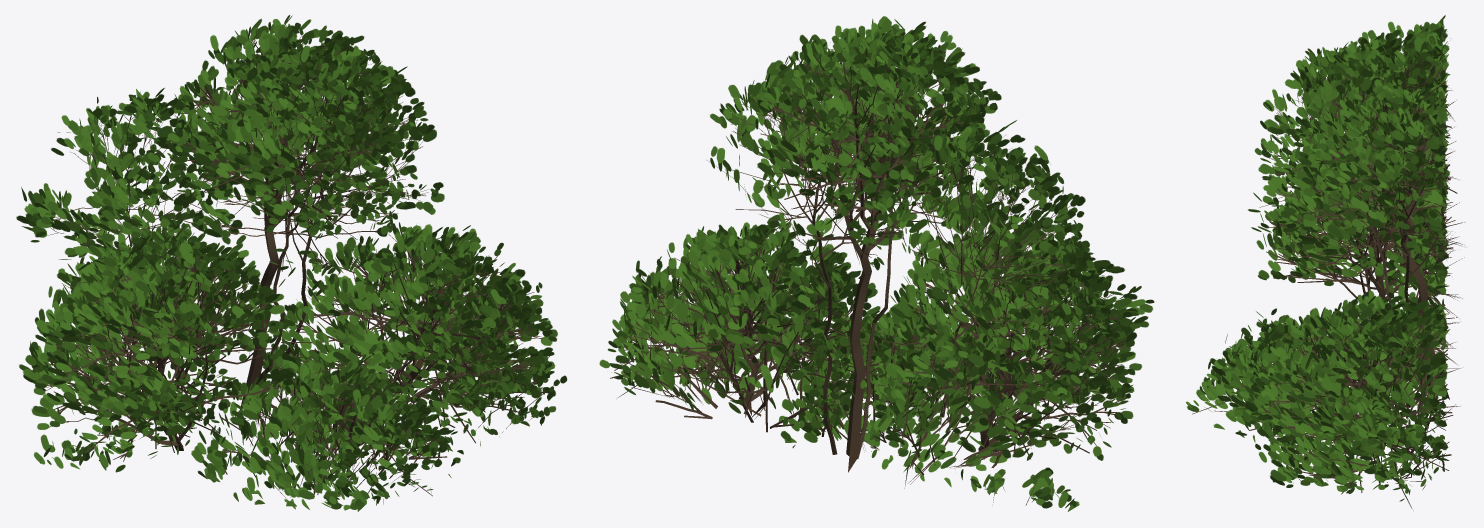
3 renders of one model, left to right at view 1: azimuth 30°, elevation 25°; view 2: azimuth 150°, elevation 25°; view 3: azimuth 270°, elevation 25°, orthographic. The views are drawn at different scales.
Visible parts, largest first — view 1: oak 01.001_trunk_Mat.001_0.443; view 2: oak 01.001_trunk_Mat.001_0.443; view 3: oak 01.001_trunk_Mat.001_0.443.
Boxes of the visible parts, x1,y1,x2,y2 form: oak 01.001_trunk_Mat.001_0.443: (16,15,567,511); oak 01.001_trunk_Mat.001_0.443: (599,16,1154,511); oak 01.001_trunk_Mat.001_0.443: (1186,15,1465,510).
Size of the model in its own units: 5.7 by 4.53 by 3.08.
Materials: 2 (1 with a texture image).
